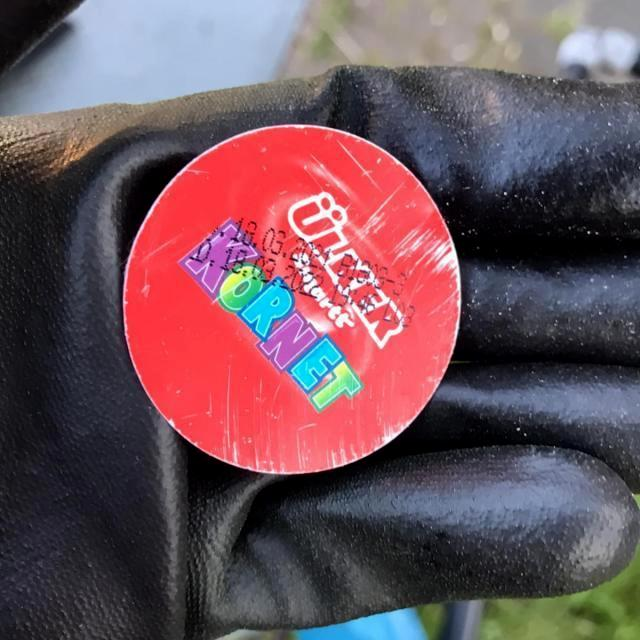Paper: (116, 118, 467, 478)
